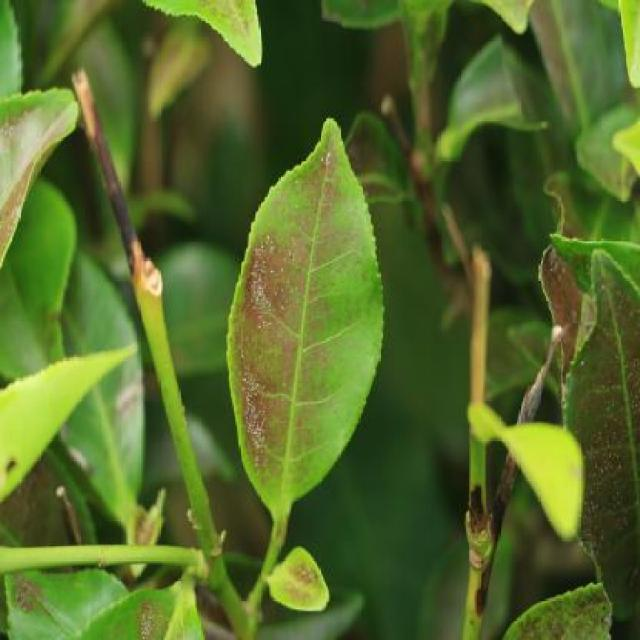Red Spider infested tea leaf: (226, 120, 392, 531), (566, 249, 640, 640)
